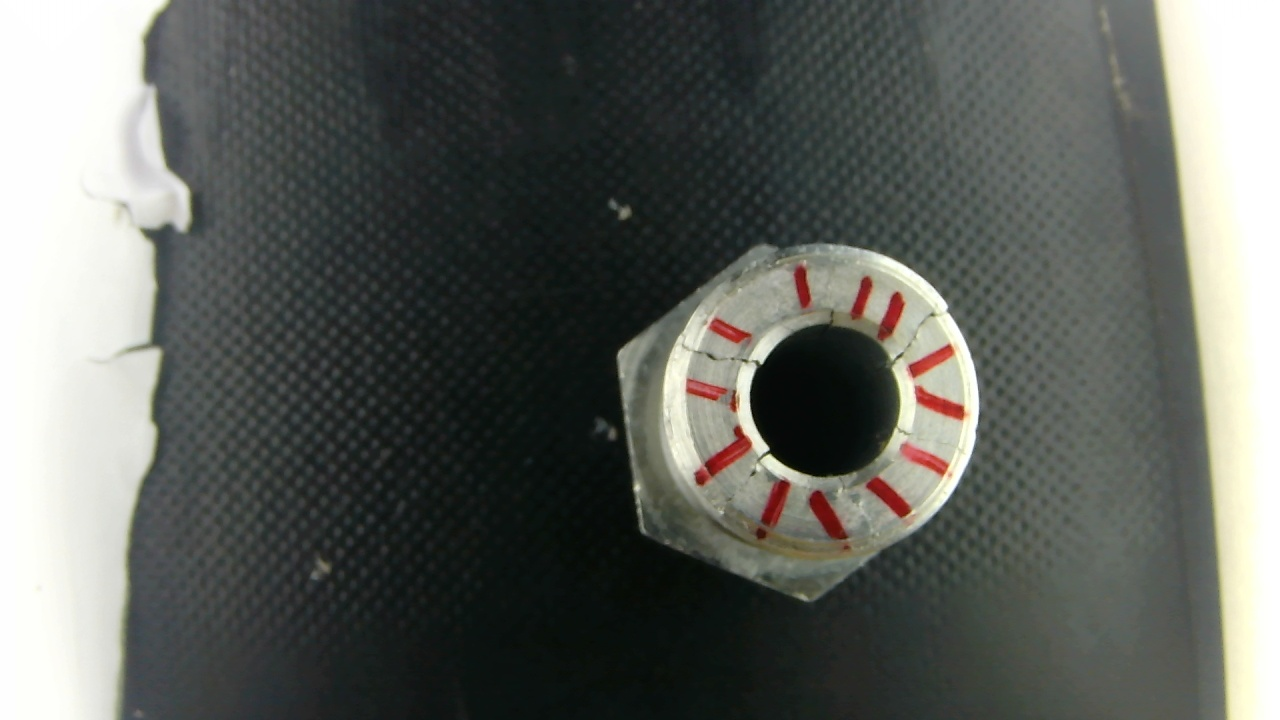crack: (672, 317, 772, 376)
